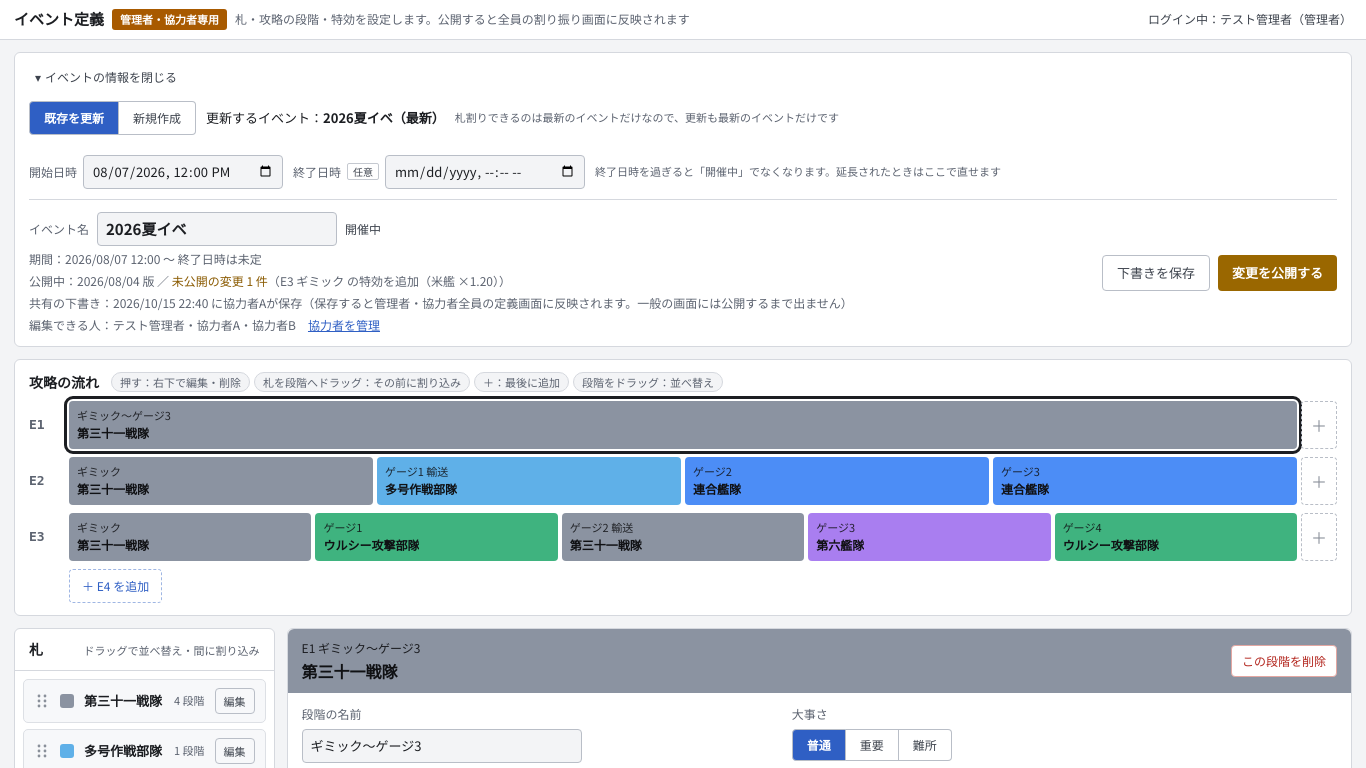
it: イベント定義の画面（PlanEditor）：公開の前の確認の追加（PR #44 の独立レビュー） › 名前・倍率はあるが艦名も国籍もない特効グループ（E3 ギミック）を「効く艦がない特効グループ」と段階名で警告する
Check: the element "攻略の流れ" is shown, box [14,358,1352,616]
Click the button "変更を公開する". click: {"x": 1278, "y": 272}
box: [1218,254,1337,290]
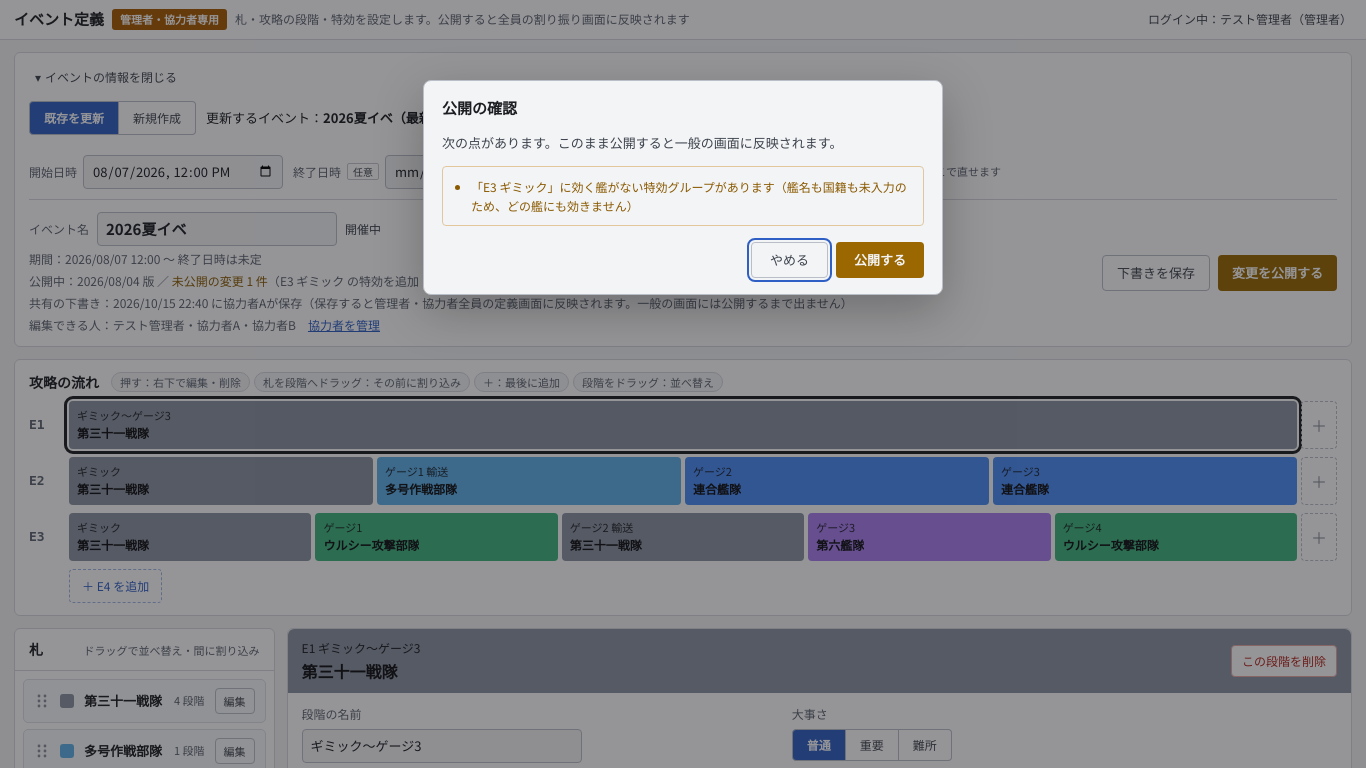
Check: the dialog "公開の確認" does not show "空の特効グループ", box [423,80,943,295]
Check: the dialog "公開の確認" shows "効く艦がない特効グループ", box [471,178,907,214]
Check: the dialog "公開の確認" shows "E3 ギミック", box [471,178,907,214]
